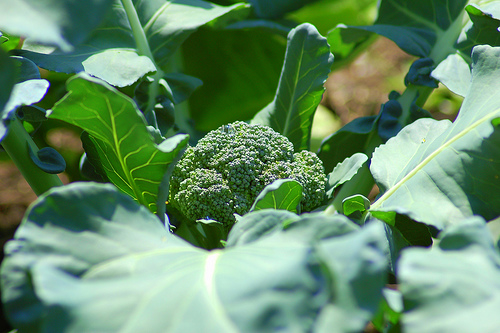broccoli: (166, 119, 329, 230)
